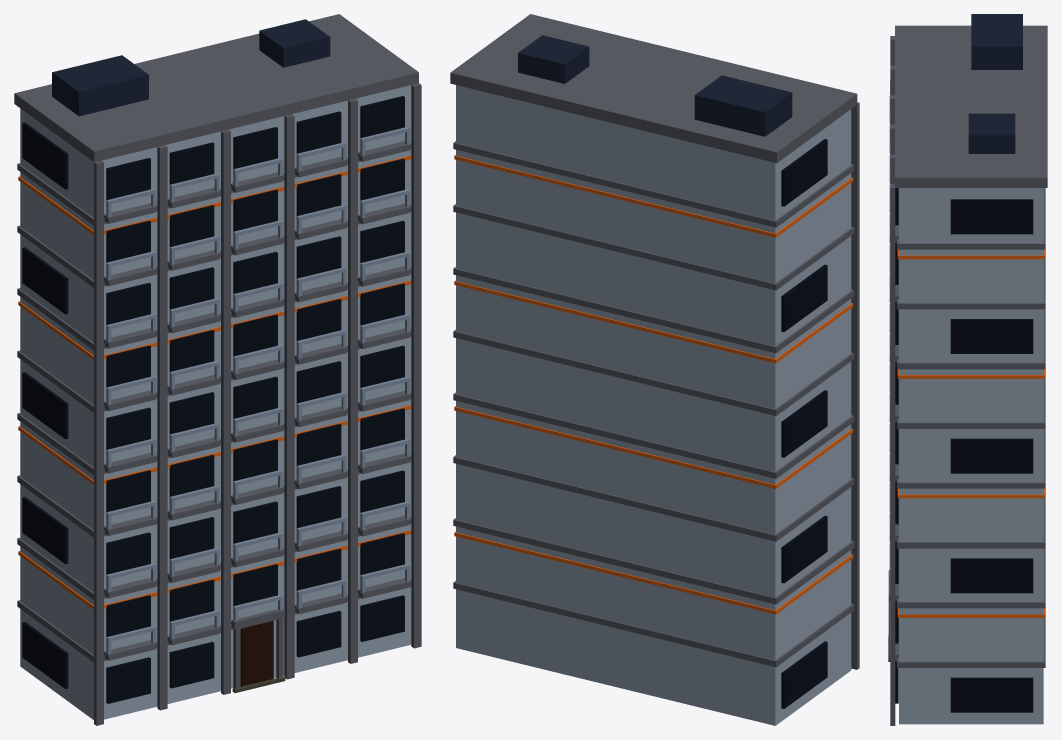
Rendered from tower1.obj.
The picture shows the model from 3 angles, left to right: view 1: azimuth 30°, elevation 25°; view 2: azimuth 150°, elevation 25°; view 3: azimuth 270°, elevation 25°; orthographic projection. The views are drawn at different scales.
Visible parts, largest first — view 1: body, windows, fins, roof, balconies, balcony-rails, roof-plant, floor-bands, window-lights, entrance, canopy-brackets; view 2: body, floor-bands, roof, windows, window-lights, roof-plant, fins; view 3: body, roof, windows, floor-bands, roof-plant, fins, window-lights, balconies, balcony-rails.
Part boxes in pixels (x1=…): body: x1=20, y1=85, x2=411, y2=719; windows: x1=22, y1=96, x2=404, y2=703; fins: x1=94, y1=83, x2=421, y2=725; roof: x1=14, y1=14, x2=418, y2=162; balconies: x1=104, y1=141, x2=409, y2=660; balcony-rails: x1=106, y1=126, x2=410, y2=655; roof-plant: x1=52, y1=19, x2=330, y2=116; floor-bands: x1=17, y1=142, x2=411, y2=662; window-lights: x1=18, y1=155, x2=411, y2=609; entrance: x1=240, y1=621, x2=273, y2=686; canopy-brackets: x1=233, y1=614, x2=283, y2=689; body: x1=456, y1=85, x2=851, y2=725; floor-bands: x1=453, y1=141, x2=854, y2=667; roof: x1=450, y1=14, x2=857, y2=163; windows: x1=781, y1=139, x2=827, y2=708; window-lights: x1=454, y1=155, x2=853, y2=614; roof-plant: x1=518, y1=35, x2=792, y2=136; fins: x1=851, y1=102, x2=859, y2=669; body: x1=899, y1=188, x2=1043, y2=724; roof: x1=895, y1=25, x2=1047, y2=187; windows: x1=895, y1=188, x2=1033, y2=712; floor-bands: x1=897, y1=188, x2=1045, y2=667; roof-plant: x1=968, y1=14, x2=1022, y2=153; fins: x1=890, y1=36, x2=895, y2=725; window-lights: x1=897, y1=249, x2=1044, y2=617; balconies: x1=889, y1=96, x2=898, y2=660; balcony-rails: x1=890, y1=80, x2=890, y2=656.
Size of the model in its own units: 6.96 by 12.22 by 3.09.
